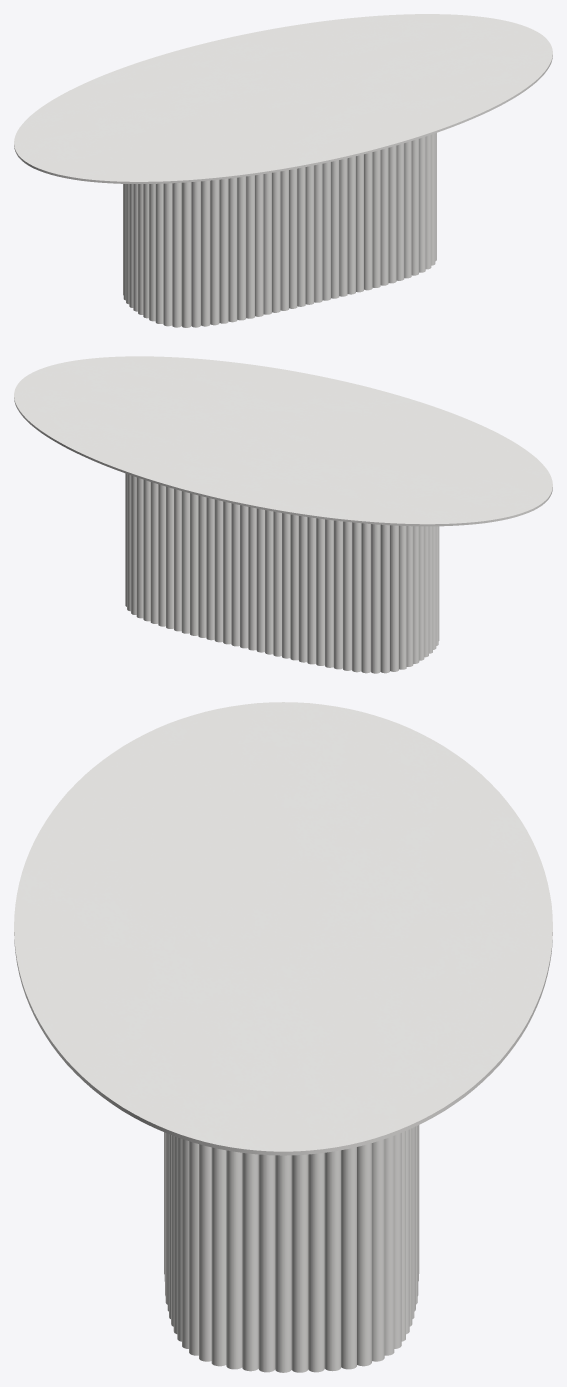
The model's file is purewhite_ellips_facet_newtable.glb.
The picture shows the model from 3 angles, top to bottom: view 1: azimuth 30°, elevation 25°; view 2: azimuth 150°, elevation 25°; view 3: azimuth 270°, elevation 25°; orthographic projection. The views are drawn at different scales.
Parts seen in each view (by area): view 1: facet_ellips, newtable; view 2: facet_ellips, newtable; view 3: facet_ellips, newtable.
Part boxes in pixels (x1,y1,x2,y2): facet_ellips: (14, 14, 552, 183); newtable: (123, 133, 436, 327); facet_ellips: (14, 356, 552, 526); newtable: (125, 473, 439, 673); facet_ellips: (14, 702, 552, 1155); newtable: (164, 1125, 419, 1372).
Bounding box in the file's own units: 7.5 × 2.5 × 3.8.
2 materials, 2 textured.
